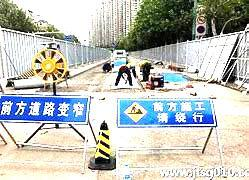sign: (119, 98, 215, 127), (1, 95, 88, 123)
